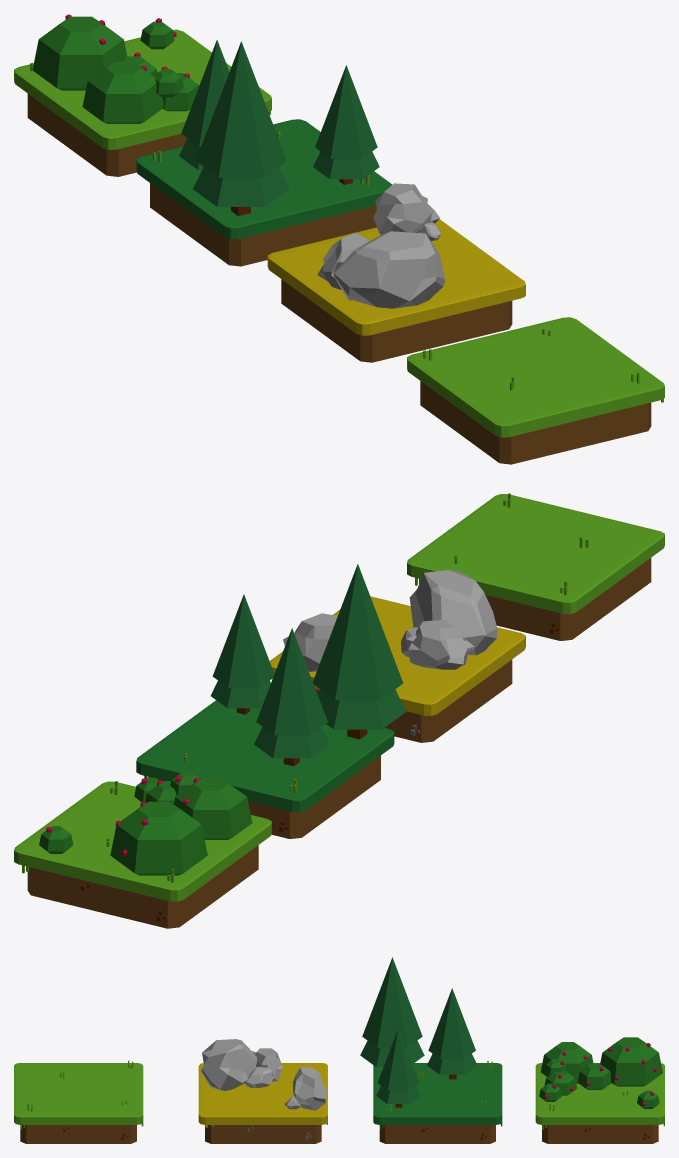
The model's file is Tilemap-projecthappiness.fbx.
3 views of the same model, one above another, from view 1: azimuth 30°, elevation 25°; view 2: azimuth 150°, elevation 25°; view 3: azimuth 270°, elevation 25° (orthographic). The views are drawn at different scales.
Visible parts, largest first — view 1: Tile 1, Tile 1.003, Tile 1.005, Tile 1.007, Cone.001, kaillou, Tile 1.002, Tile 1.001, Tile 1.004, Cylinder.008, Cylinder.006, Tile 1.006 (+9 smaller); view 2: Tile 1, Tile 1.005, Tile 1.007, Cone.001, Tile 1.003, Tile 1.006, Cylinder.008, kaillou, Tile 1.001, Cone.002, Cylinder.006, Cone.005 (+8 smaller); view 3: Tile 1, Tile 1.005, Tile 1.003, Tile 1.007, Cone.001, Cylinder.008, kaillou, Tile 1.006, Tile 1.002, Tile 1.001, Tile 1.004, Cone.002 (+12 smaller).
Part boxes in pixels (x1,y1,x2,y2): Tile 1: (407,317,664,437); Tile 1.003: (267,219,525,335); Tile 1.005: (136,119,392,239); Tile 1.007: (14,29,271,149); Cone.001: (196,41,286,177); kaillou: (333,231,445,308); Tile 1.002: (281,279,512,362); Tile 1.001: (420,381,651,464); Tile 1.004: (150,183,376,266); Cylinder.008: (32,16,127,90); Cylinder.006: (82,61,163,123); Tile 1.006: (27,94,187,176); Tile 1: (407,494,664,614); Tile 1.005: (136,700,394,812); Tile 1.007: (14,781,271,901); Cone.001: (313,564,403,699); Tile 1.003: (269,596,525,715); Tile 1.006: (27,845,258,928); Cylinder.008: (110,801,207,875); kaillou: (409,570,497,655); Tile 1.001: (485,558,651,640); Cone.002: (256,628,327,735); Cylinder.006: (174,777,252,839); Cone.005: (212,594,274,687); Tile 1: (14,1063,143,1124); Tile 1.005: (373,1063,502,1124); Tile 1.003: (198,1063,327,1124); Tile 1.007: (535,1063,664,1124); Cone.001: (362,957,422,1047); Cylinder.008: (600,1037,662,1086); kaillou: (201,1039,257,1090); Tile 1.006: (542,1125,658,1143); Tile 1.002: (205,1125,321,1143); Tile 1.001: (20,1125,136,1143); Tile 1.004: (379,1125,495,1143); Cone.002: (428,988,475,1059).
Size of the model in its own units: 535 by 623 by 2539.
